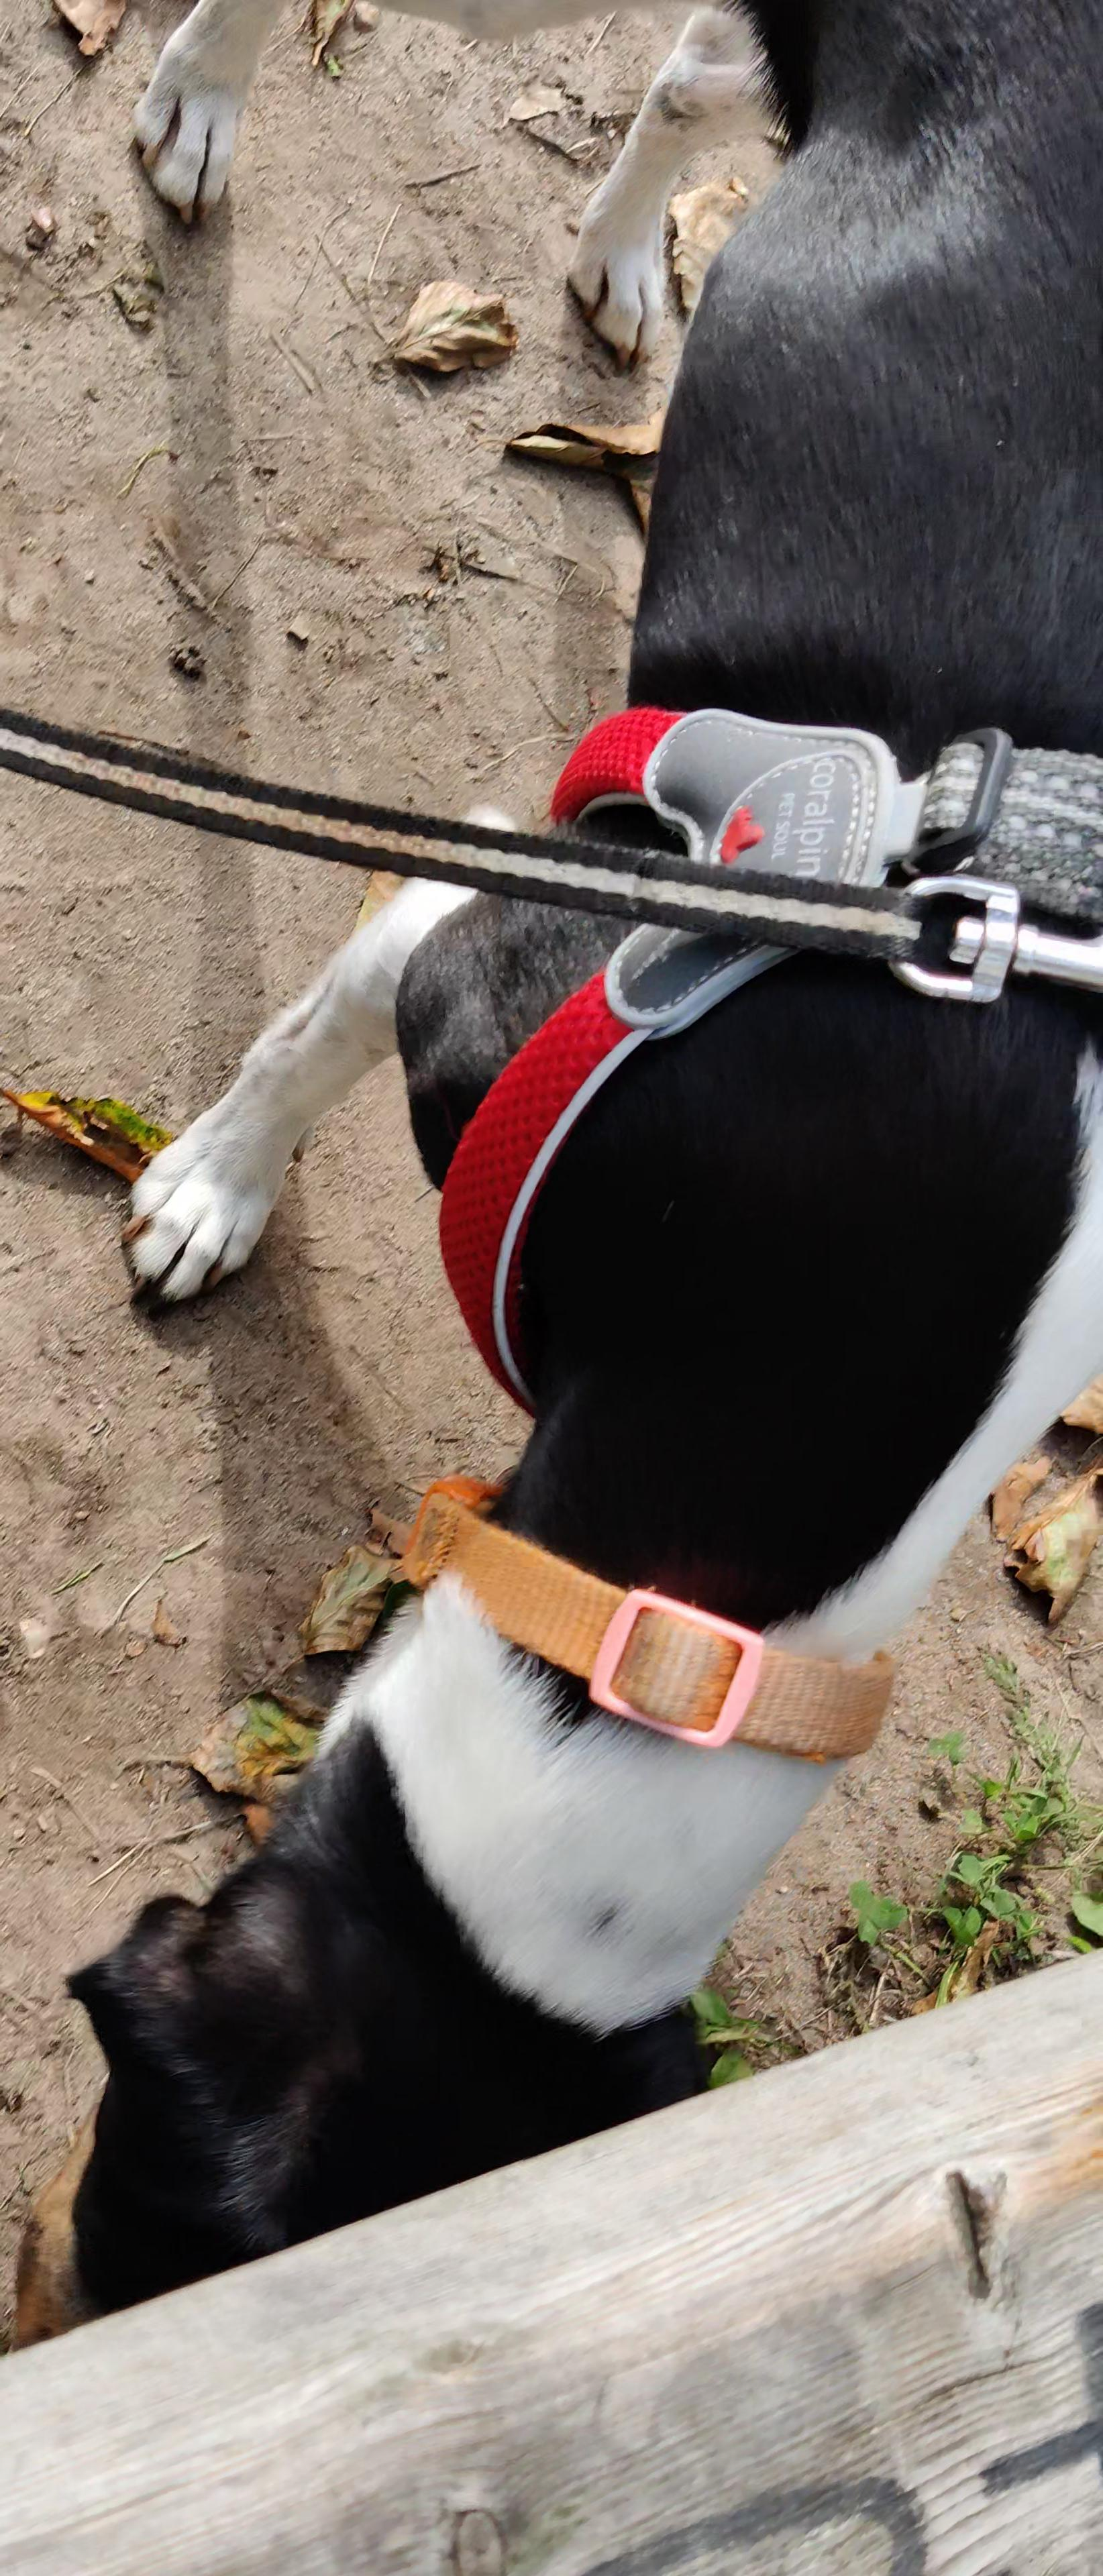Dog: (12, 0, 1103, 2376)
